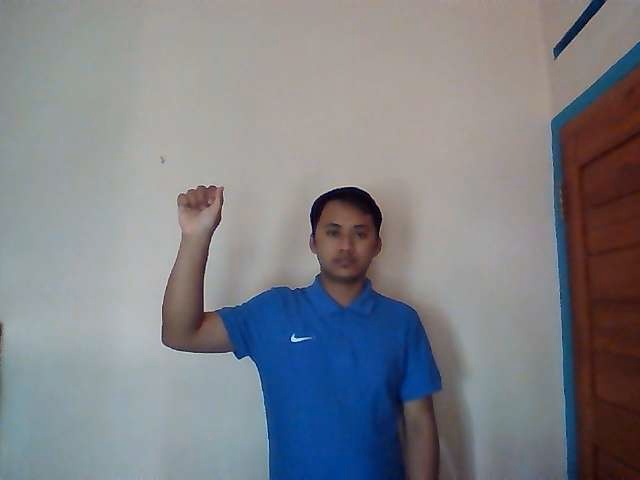A: (176, 184, 225, 232)
